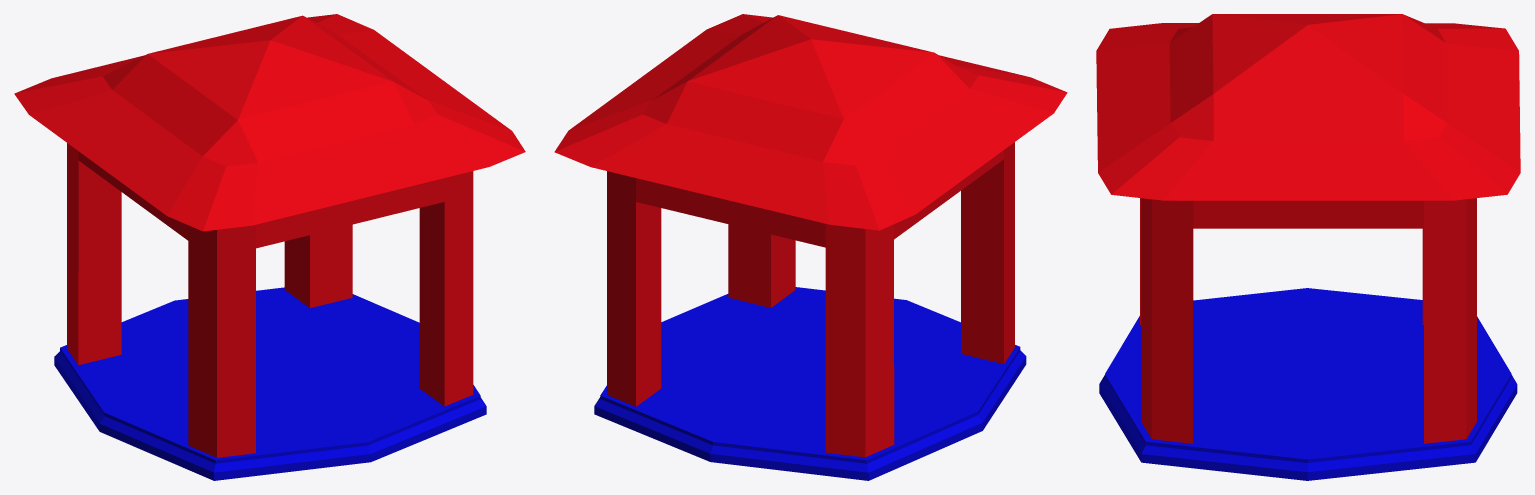
The model's file is Gazebo.fbx.
The picture shows the model from 3 angles, left to right: view 1: azimuth 30°, elevation 25°; view 2: azimuth 150°, elevation 25°; view 3: azimuth 270°, elevation 25°; orthographic projection. The views are drawn at different scales.
Parts seen in each view (by area): view 1: Cube; view 2: Cube; view 3: Cube.
Part boxes in pixels (x1,y1,x2,y2): Cube: (14, 14, 525, 480); Cube: (554, 14, 1067, 480); Cube: (1096, 14, 1520, 480).
Size of the model in its own units: 1011 by 976 by 1022.
